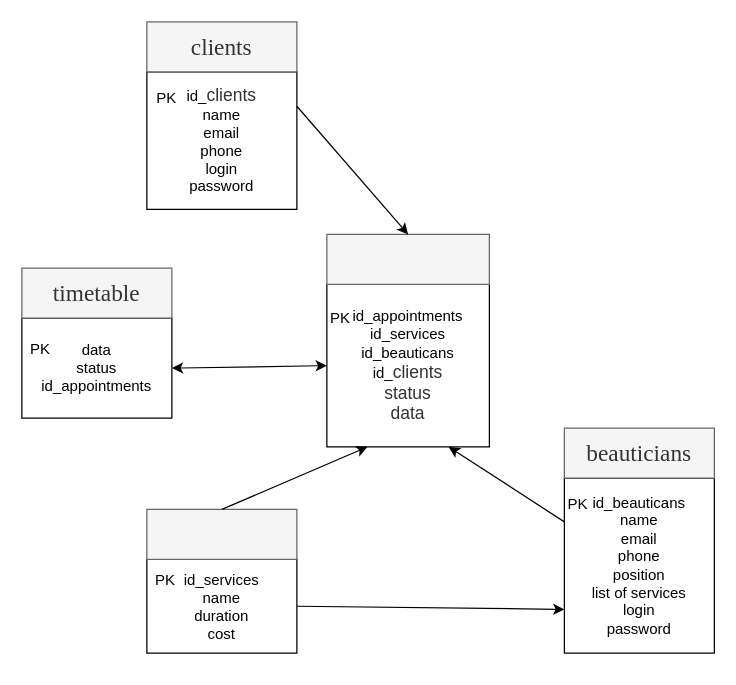
Some shapes in this 736 by 685 pixel diagram are drawn without their labels. Each missing label, with the centre of its shape:
"appointments" belongs at pixel 407 258.
"services" belongs at pixel 221 533.
